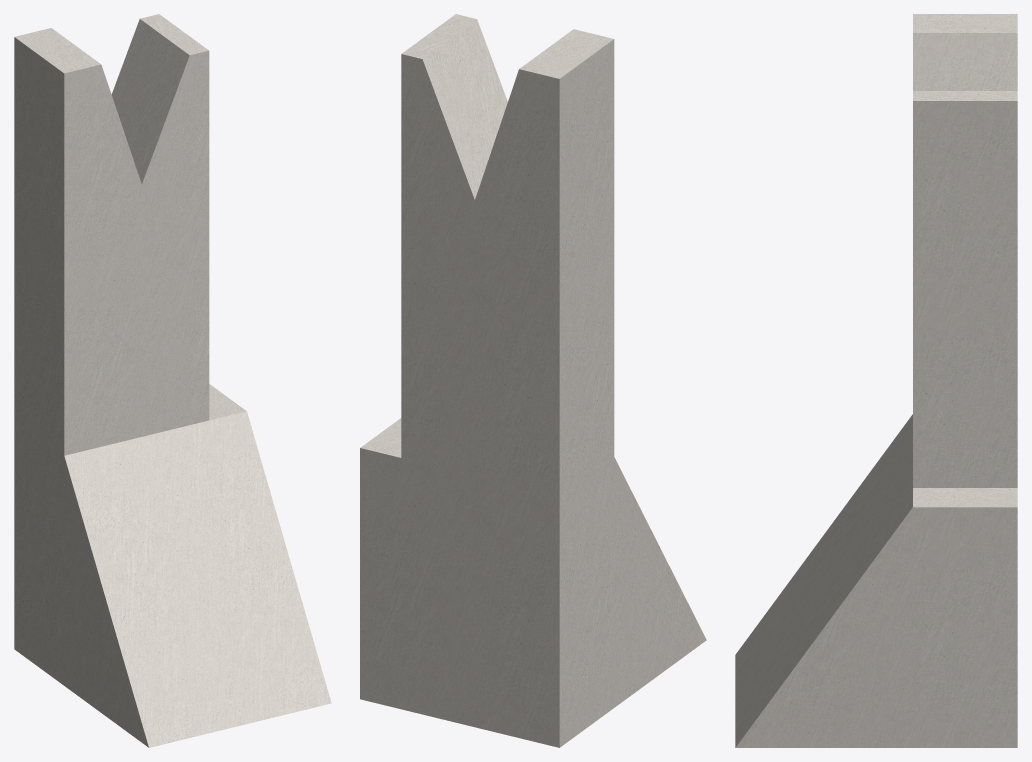
File: queen-white-hd.glb
3 renders of one model, left to right at view 1: azimuth 30°, elevation 25°; view 2: azimuth 150°, elevation 25°; view 3: azimuth 270°, elevation 25°, orthographic. The views are drawn at different scales.
Parts seen in each view (by area): view 1: dama_bila; view 2: dama_bila; view 3: dama_bila.
Part boxes in pixels (x1,y1,x2,y2): dama_bila: (14,14,331,747); dama_bila: (360,14,706,747); dama_bila: (735,14,1017,747).
Size of the model in its own units: 0.4525 by 1.45 by 0.5785.
Materials: 1 (1 with a texture image).
